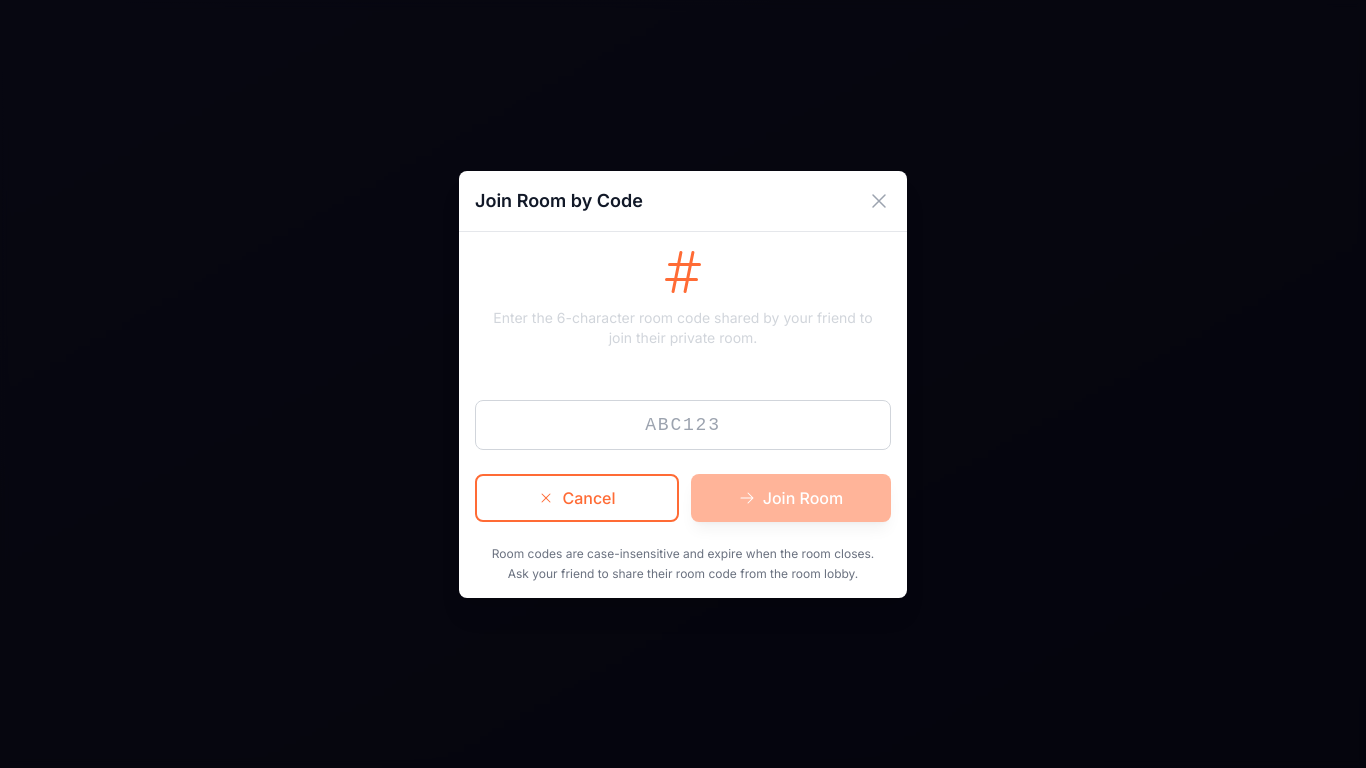
Test: JoinByCodeModal › limits input to 6 characters
Type more than 6 characters
In the field labelled "Room Code": (683, 424) x1=475 y1=400 x2=891 y2=450, type "abcdefghij"
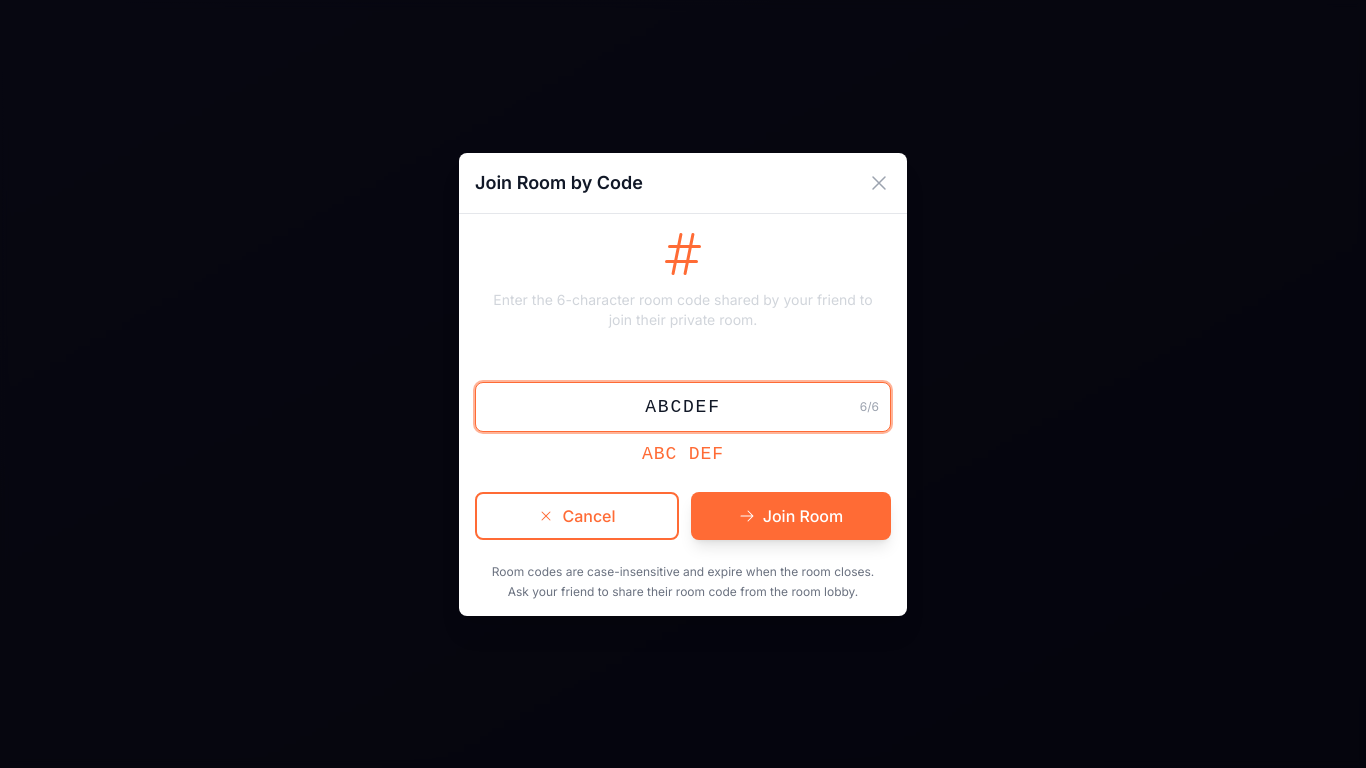
Check: the field labelled "Room Code" holds "ABCDEF", box x1=475 y1=382 x2=891 y2=432
